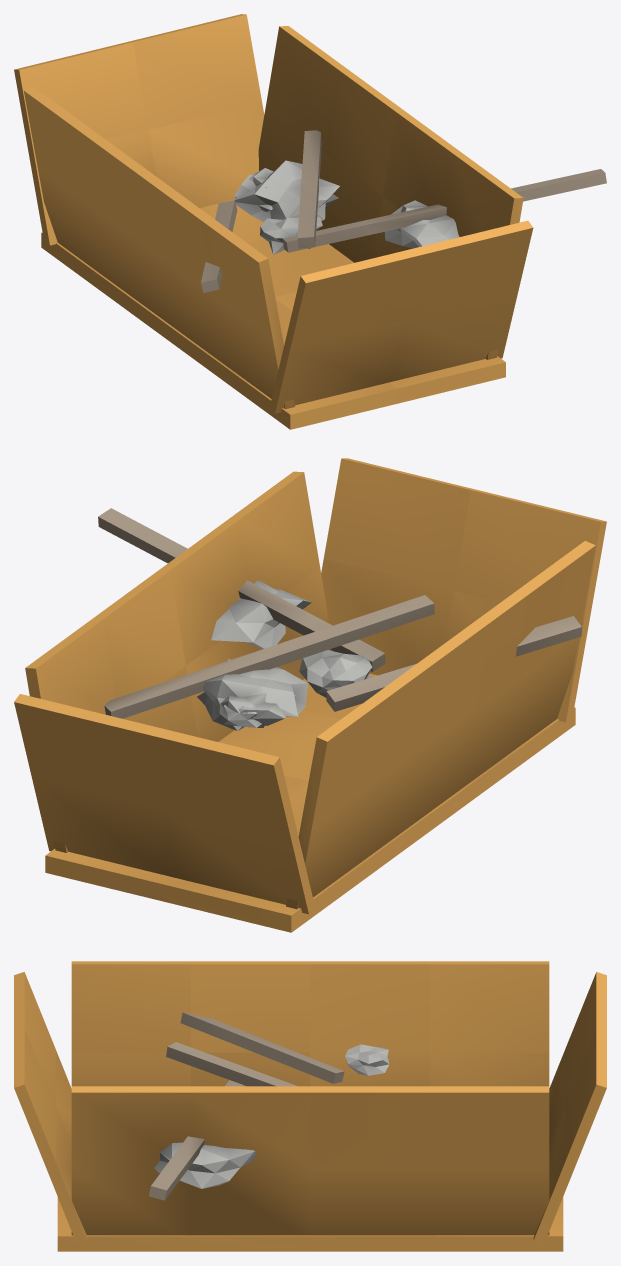
File: cacamba.glb
3 renders of one model, top to bottom at view 1: azimuth 30°, elevation 25°; view 2: azimuth 150°, elevation 25°; view 3: azimuth 270°, elevation 25°, orthographic. The views are drawn at different scales.
Parts seen in each view (by area): view 1: cacamba, entulho; view 2: cacamba, entulho; view 3: cacamba, entulho.
Boxes of the visible parts, box(x1,y1,x2,y2) form: cacamba: box(14, 14, 533, 429); entulho: box(201, 130, 606, 292); cacamba: box(14, 458, 606, 932); entulho: box(98, 508, 581, 730); cacamba: box(14, 961, 606, 1251); entulho: box(149, 1012, 389, 1200).
Size of what is drawn, in the model's own units: 3.44 by 1.36 by 4.22.
